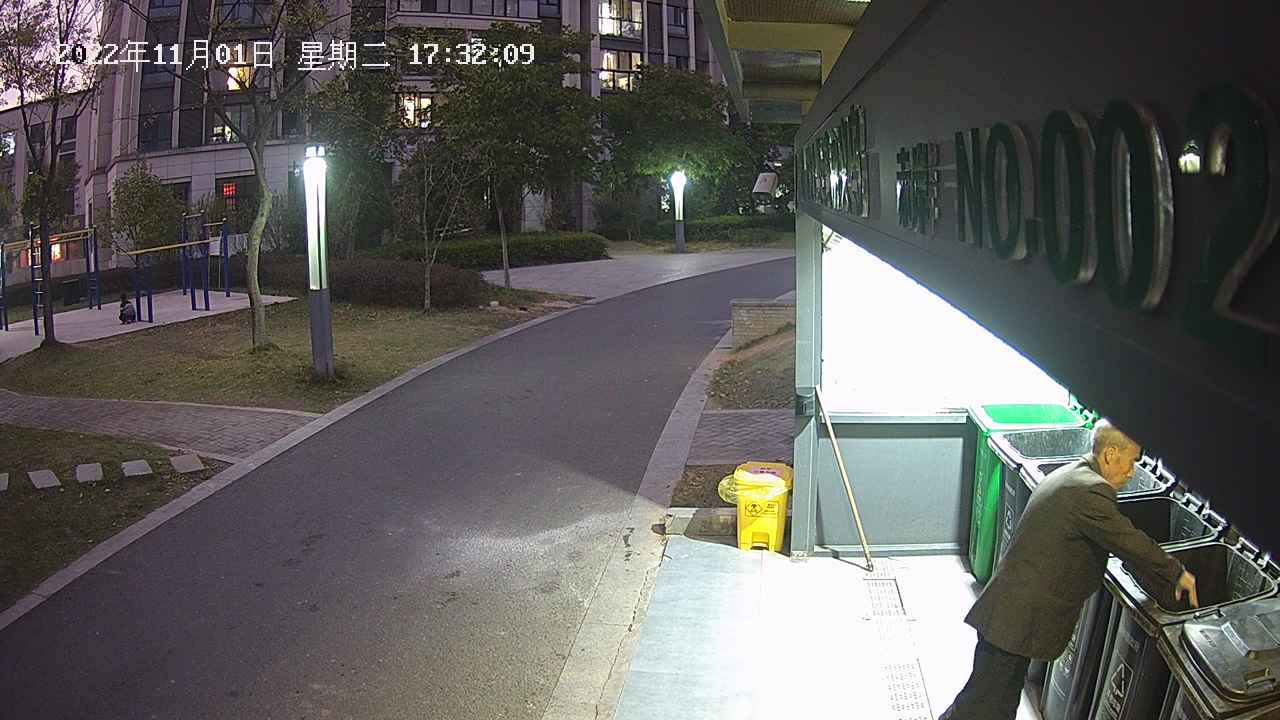person: (936, 417, 1201, 720)
